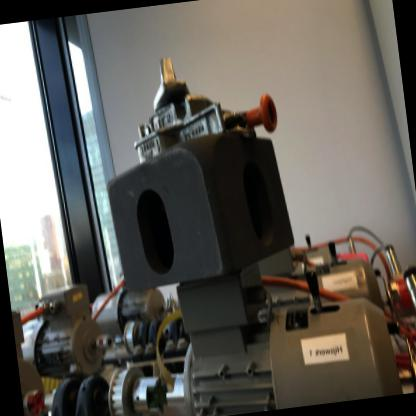CornerCasting: (100, 127, 304, 296)
Twistlock: (121, 38, 290, 170)
